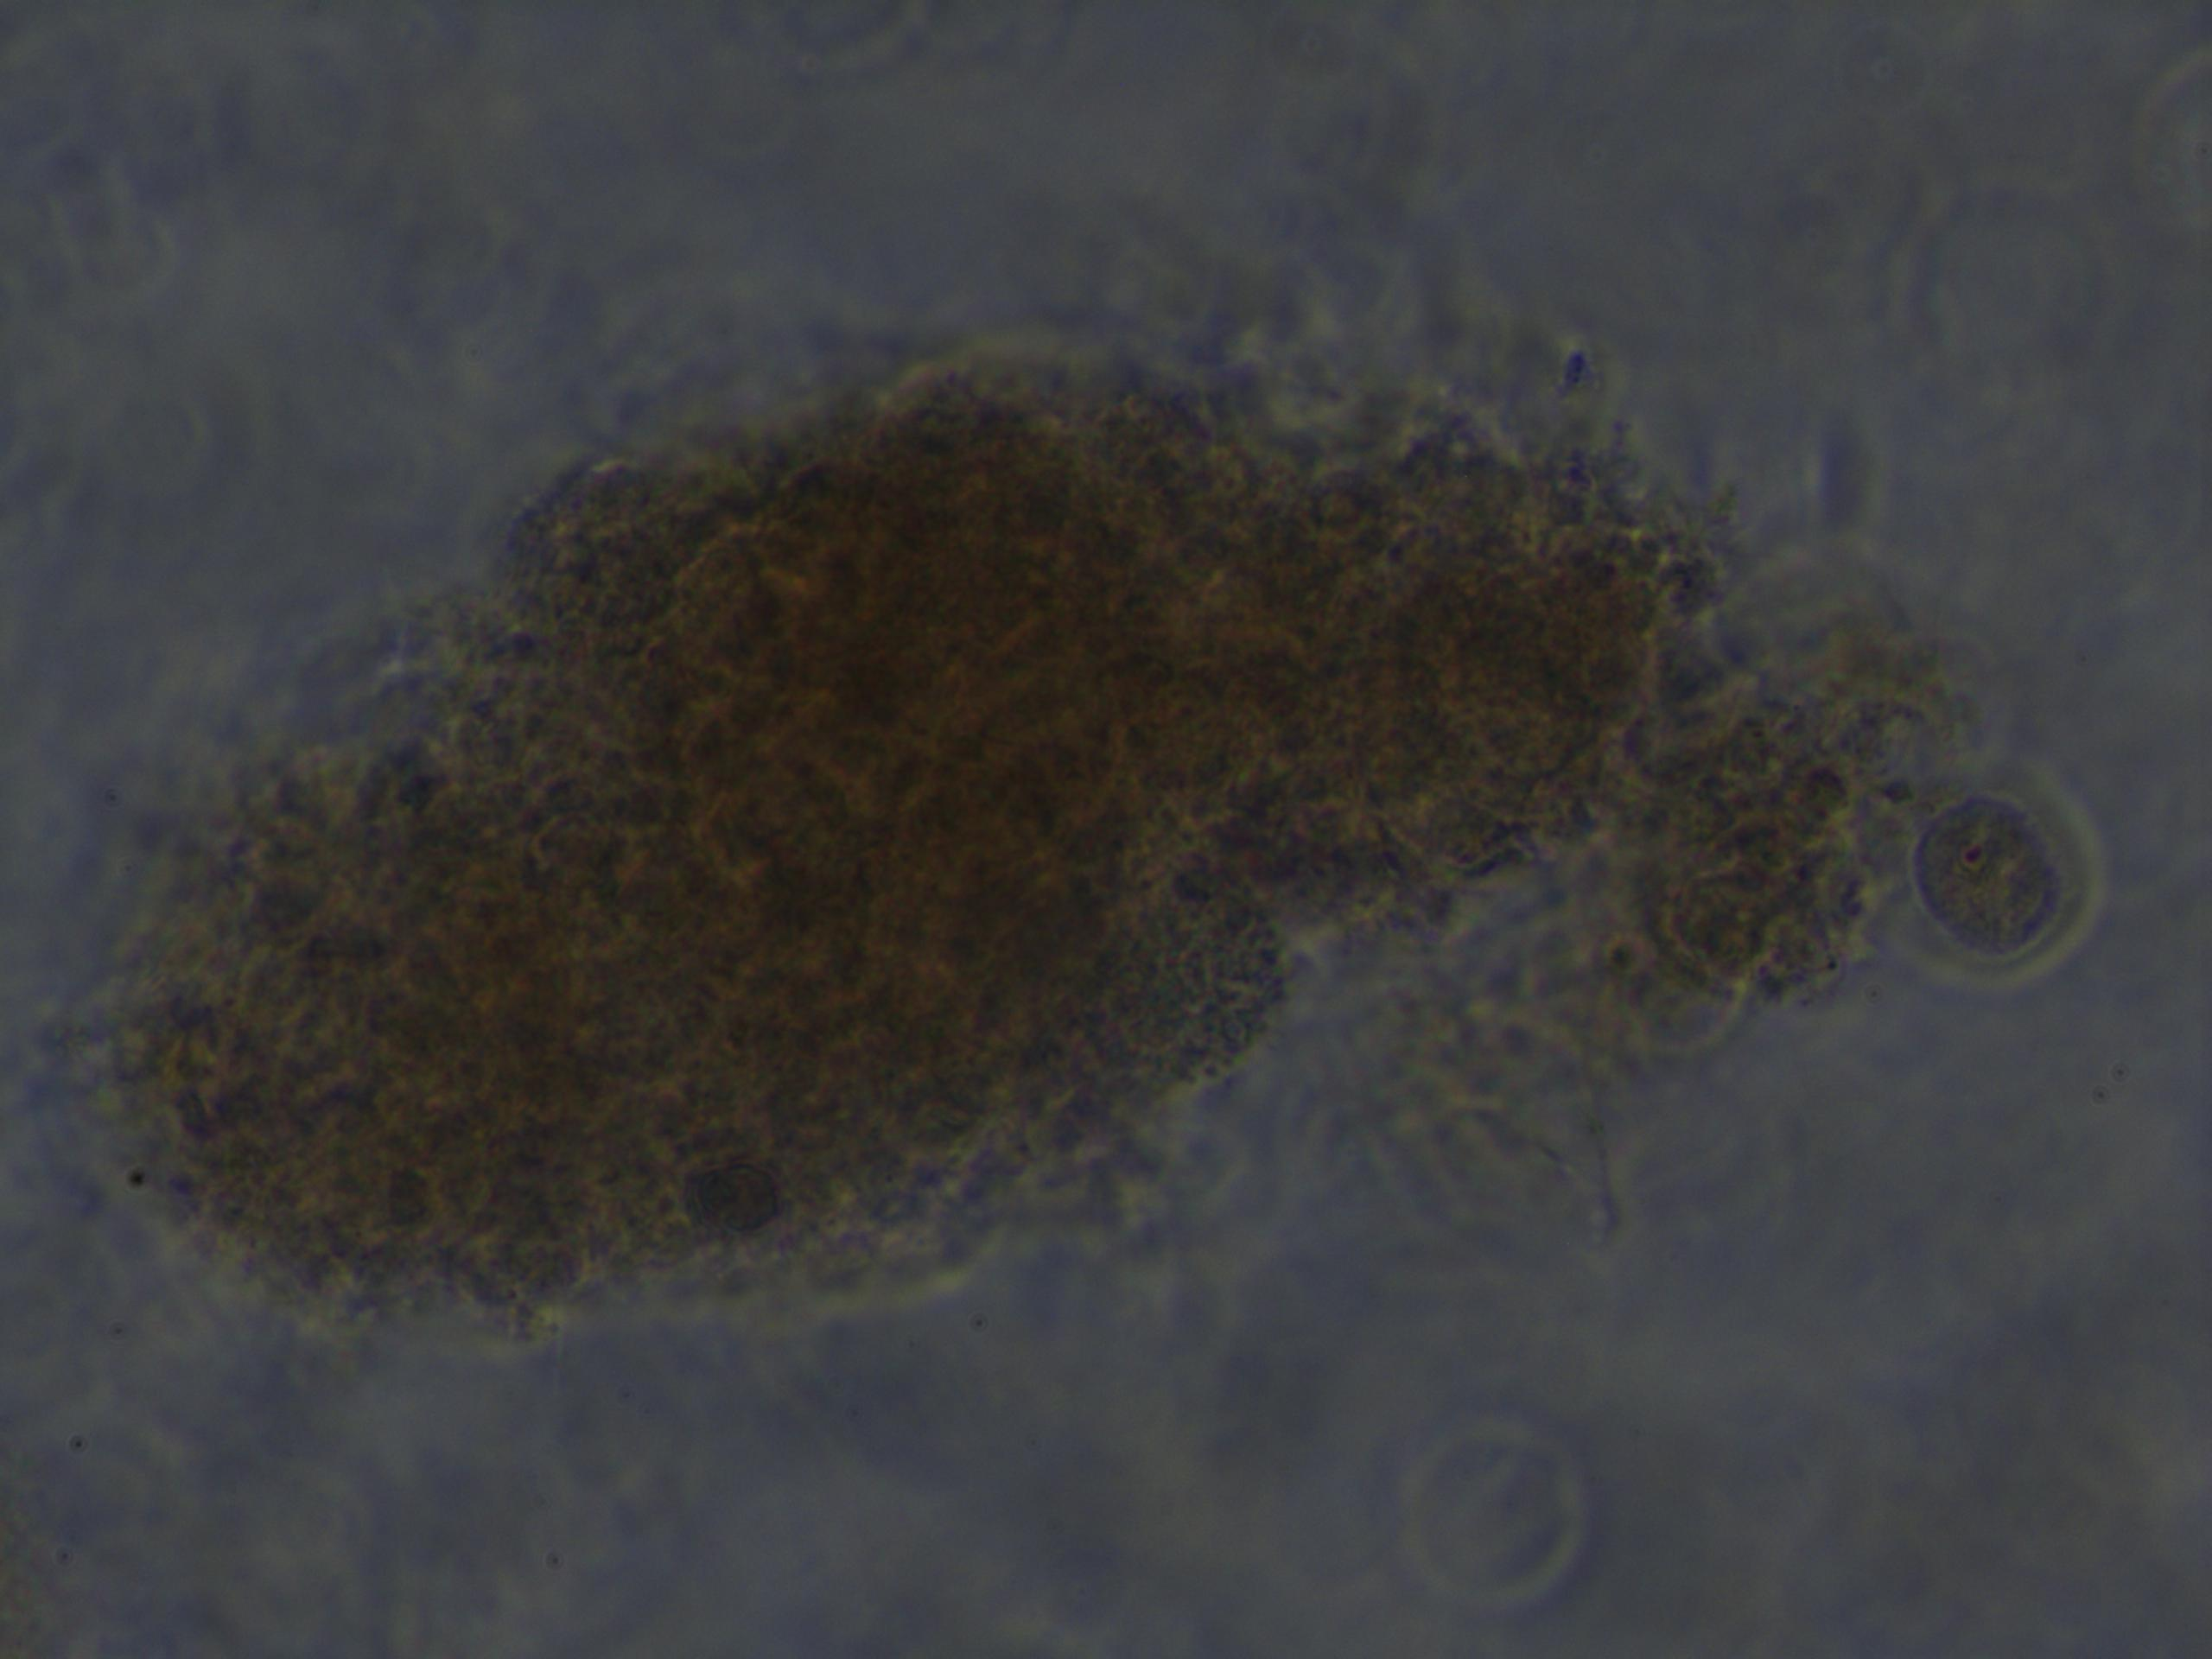spherical_floc: (101, 340, 1738, 1340)
